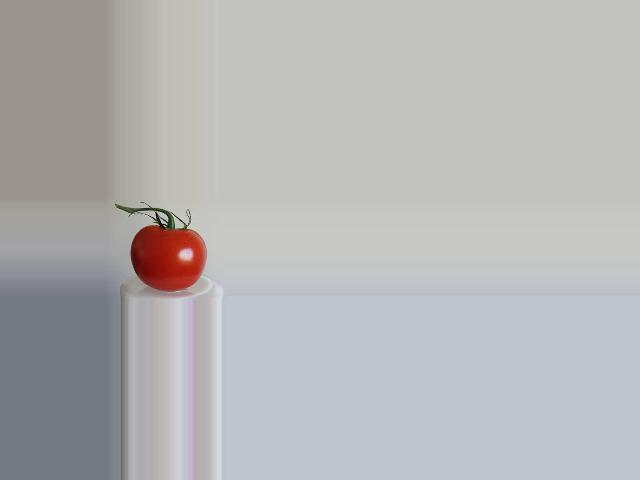tomato: (129, 225, 206, 291)
